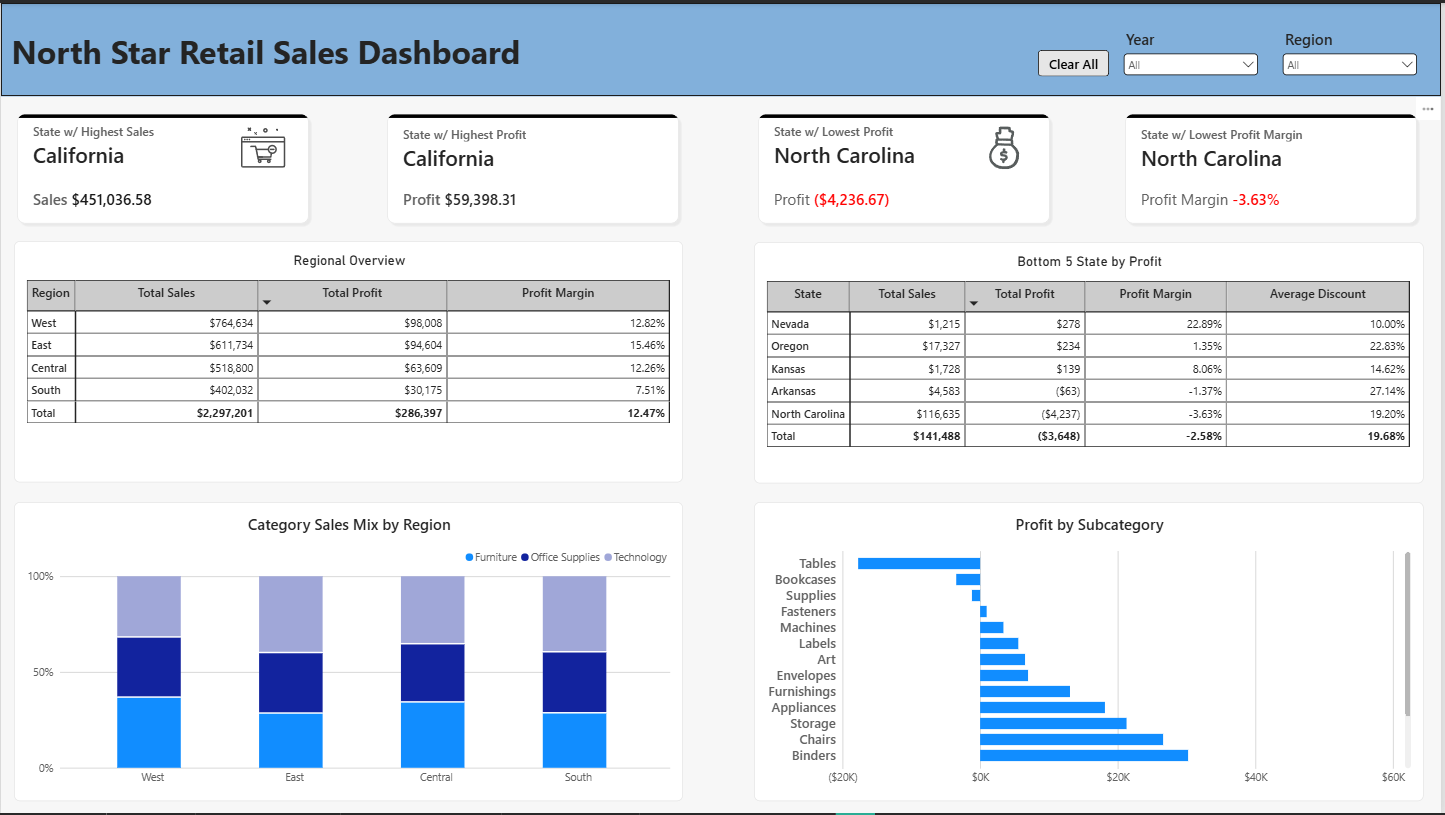

This screenshot's page, from the dashboard's own definition file:
{"tool":"powerbi","page":{"name":"Regional Performance","canvas":[1920,1080],"ordinal":2},"visuals":[{"type":"shape","box":[0,0,1919.7,124.6],"z":0},{"type":"textbox","box":[0,35,706.7,75],"z":1000},{"type":"cardVisual","fields":{"Data":["_measuers.top_sales_state_name"]},"box":[16,142.8,400,157],"z":2000},{"type":"cardVisual","fields":{"Data":["_measures.top_profit_state_name"]},"box":[509.8,142.8,400,157],"z":3000},{"type":"cardVisual","fields":{"Data":["_measures.bottom_profit_margin_state_name"]},"box":[1492.7,142.4,400,157],"z":4000},{"type":"cardVisual","fields":{"Data":["_measures.bottom_profit_state_name"]},"box":[1004,142.4,400,157],"z":5000},{"type":"pivotTable","title":"Regional Overview","fields":{"Rows":["dim_customer.region"],"Values":["_measures.total_sales","_measures.total_profit","_measures.profit_margin"]},"box":[17.3,317.8,892.3,322.3],"z":6000},{"type":"slicer","fields":{"Values":["dim_date.date.Variation.Date Hierarchy.Year"]},"box":[1492.1,33.9,188.5,88.5],"z":7000},{"type":"slicer","fields":{"Values":["dim_customer.region"]},"box":[1704,33.9,188.5,88.5],"z":8000},{"type":"actionButton","box":[1383,62.8,94.7,35.3],"z":9000},{"type":"pivotTable","title":"Bottom 5 State by Profit","fields":{"Rows":["dim_customer.state"],"Values":["_measures.total_sales","_measures.total_profit","_measures.profit_margin","_measures.average_discount"]},"box":[1003.7,318.6,893.1,321.9],"z":10000},{"type":"hundredPercentStackedColumnChart","title":"Category Sales Mix by Region","fields":{"Y":["_measures.total_sales"],"Category":["dim_customer.region"],"Series":["dim_product.category"]},"box":[16.8,664.7,892.3,399.4],"z":11000},{"type":"clusteredBarChart","title":"Profit by Subcategory","fields":{"Category":["dim_product.subcategory"],"Y":["_measures.total_profit"]},"box":[1004,665,893,399],"z":12000}]}

Visuals, with their boxes in screenshot pixels (x1, y1, x2, y2), scaled from the page's 1920x1080 canvas onto the 1445x815 screenshot:
shape: (0,0,1444,94)
textbox: (0,26,532,83)
cardVisual - _measuers.top_sales_state_name: (12,108,313,226)
cardVisual - _measures.top_profit_state_name: (384,108,685,226)
cardVisual - _measures.bottom_profit_margin_state_name: (1123,107,1424,226)
cardVisual - _measures.bottom_profit_state_name: (756,107,1057,226)
"Regional Overview" pivotTable: (13,240,685,483)
slicer - dim_date.date.Variation.Date Hierarchy.Year: (1123,26,1265,92)
slicer - dim_customer.region: (1282,26,1424,92)
actionButton: (1041,47,1112,74)
"Bottom 5 State by Profit" pivotTable: (755,240,1428,483)
"Category Sales Mix by Region" hundredPercentStackedColumnChart: (13,502,684,803)
"Profit by Subcategory" clusteredBarChart: (756,502,1428,803)
